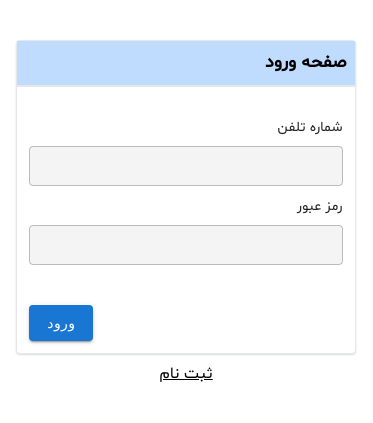
Login Component › validates the form inputs
Click the button "ورود" at coordinates (61, 323), box [29, 305, 93, 341]
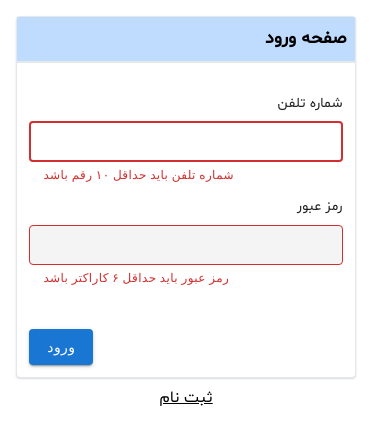
Expected: the text "شماره تلفن باید حداقل ۱۰ رقم باشد" is shown, [43, 168, 234, 182]
Expected: the text "رمز عبور باید حداقل ۶ کاراکتر باشد" is shown, [43, 271, 229, 285]
